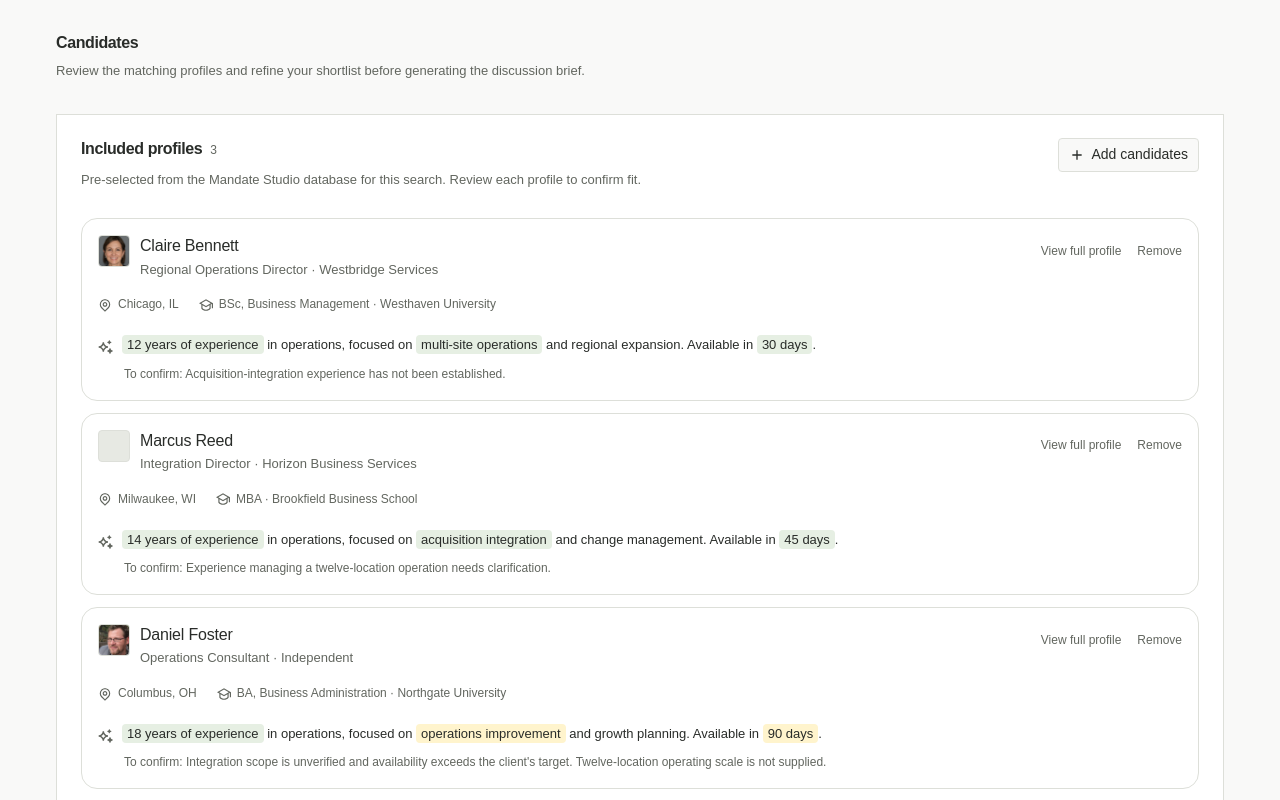
Test: v2 rendered React interactions › keeps a candidate until removal is confirmed and lets cancelled removal keep selection
This screenshot has width=1280, height=800.
Click the button with aria-label "Remove Claire Bennett from selection" at (1160, 251), box [1137, 235, 1182, 267]
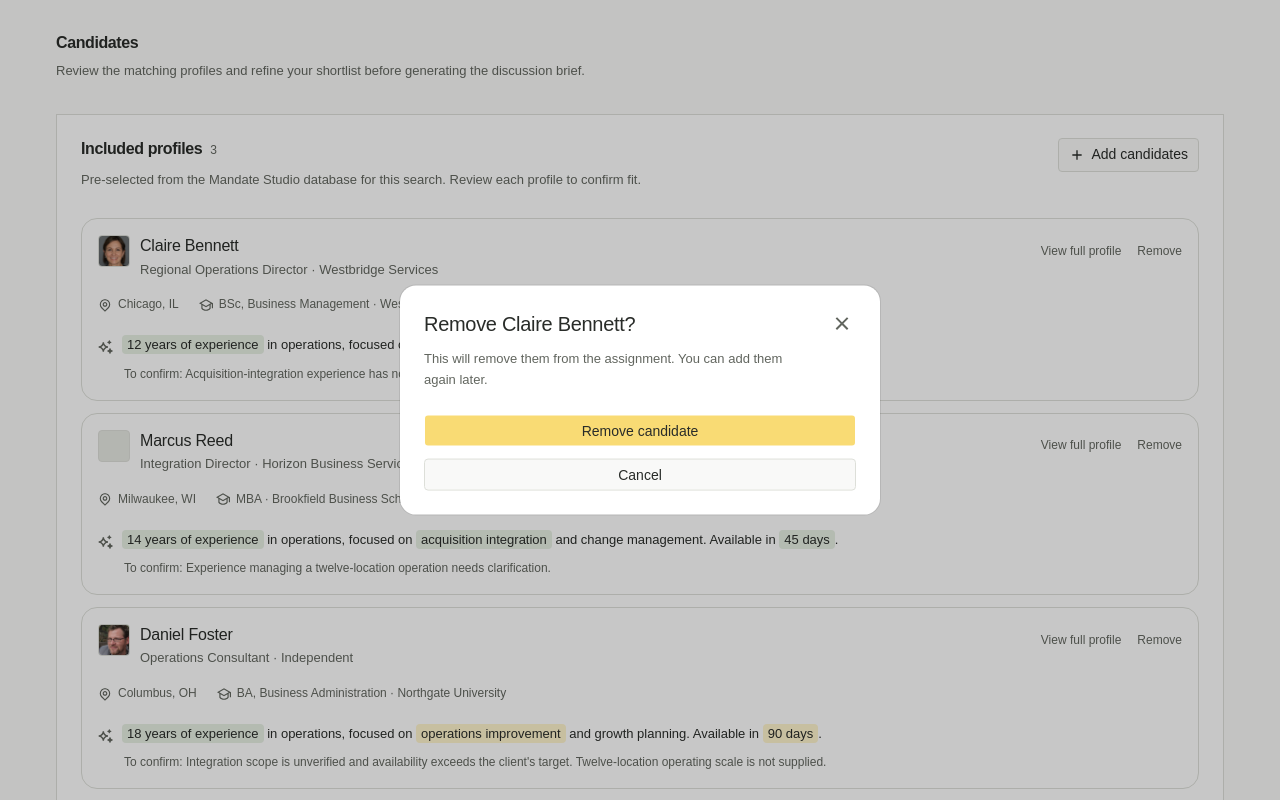
Expected: the button with aria-label "View full profile for Claire Bennett" is shown, [82, 219, 1198, 400]
Click the button "Cancel" at (640, 474), box [424, 458, 856, 490]
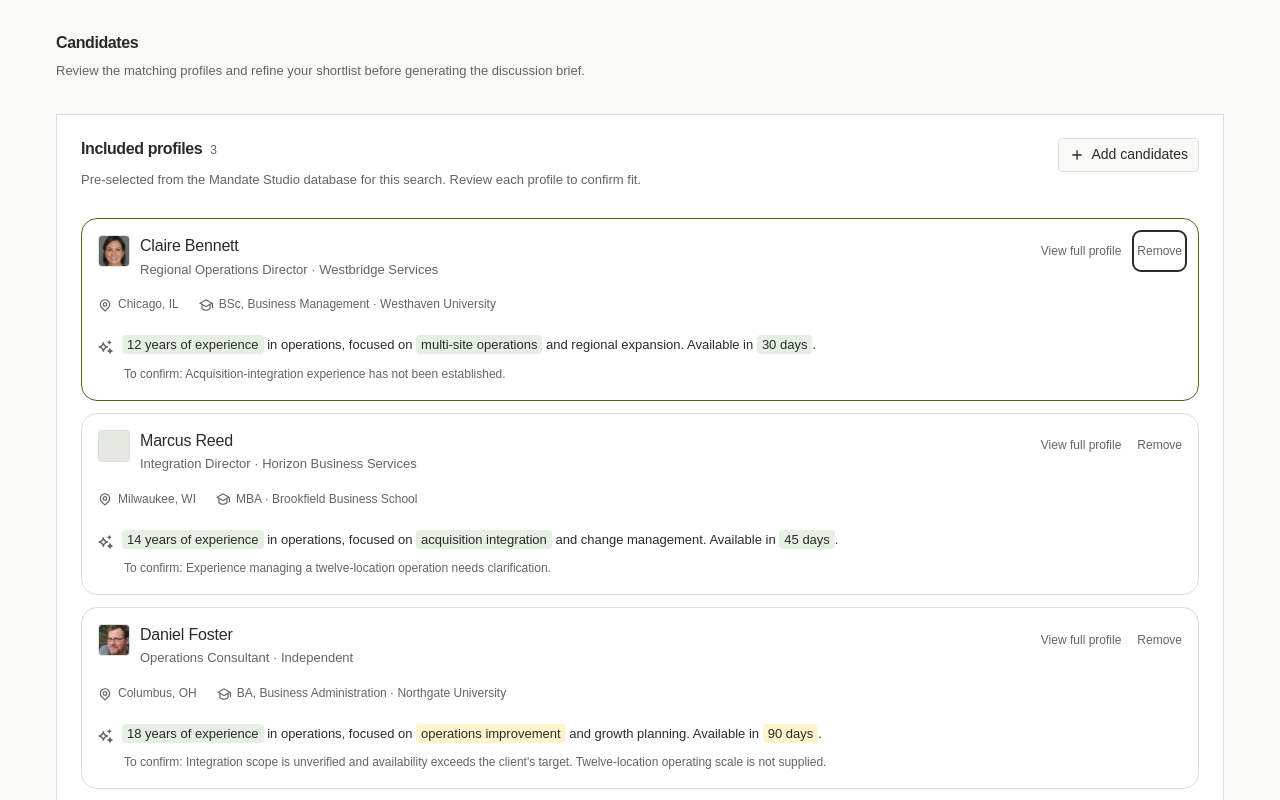
Expected: the button with aria-label "View full profile for Claire Bennett" is shown, [82, 219, 1198, 400]
Expected: the heading "Remove Claire Bennett?" is gone
Click the button with aria-label "Remove Claire Bennett from selection" at (1160, 251), box [1137, 235, 1182, 267]
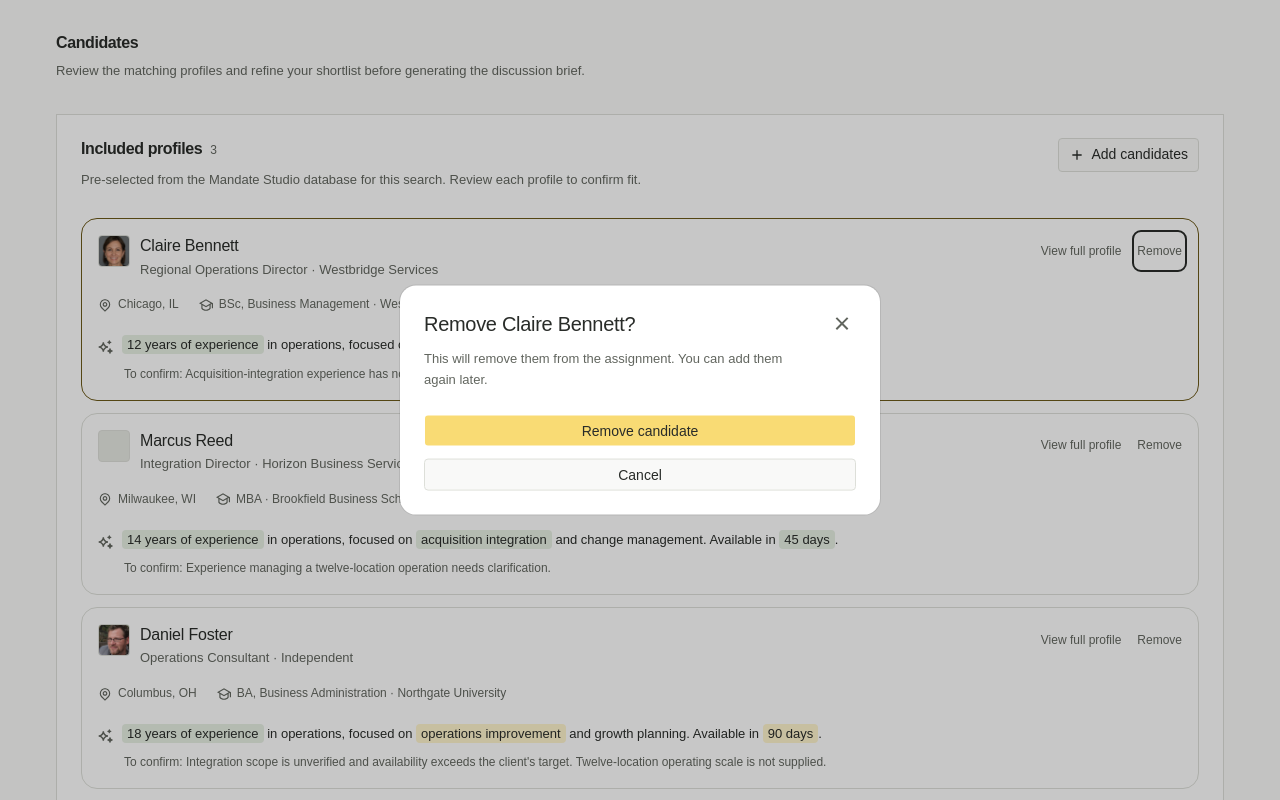
Click the button "Remove candidate" at (640, 430), box [424, 414, 856, 446]
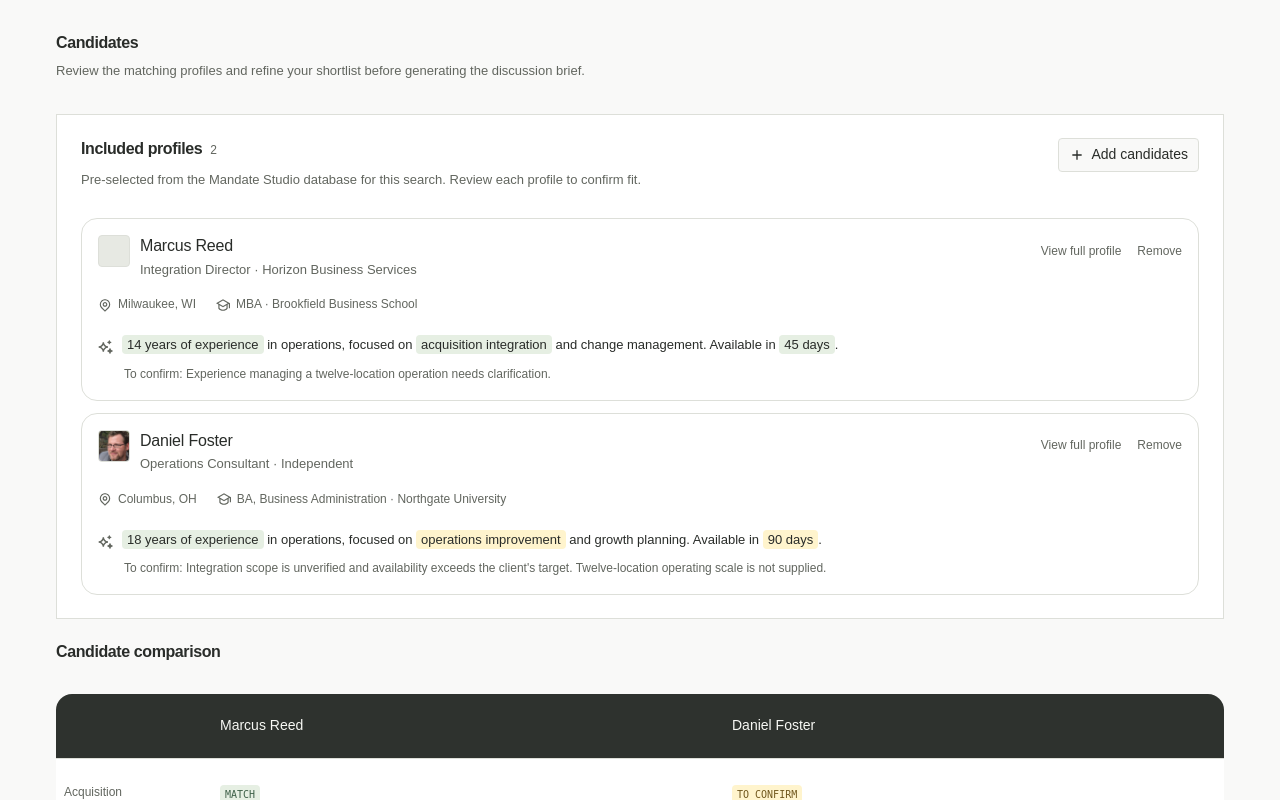
Expected: the button "Claire Bennett" is gone
